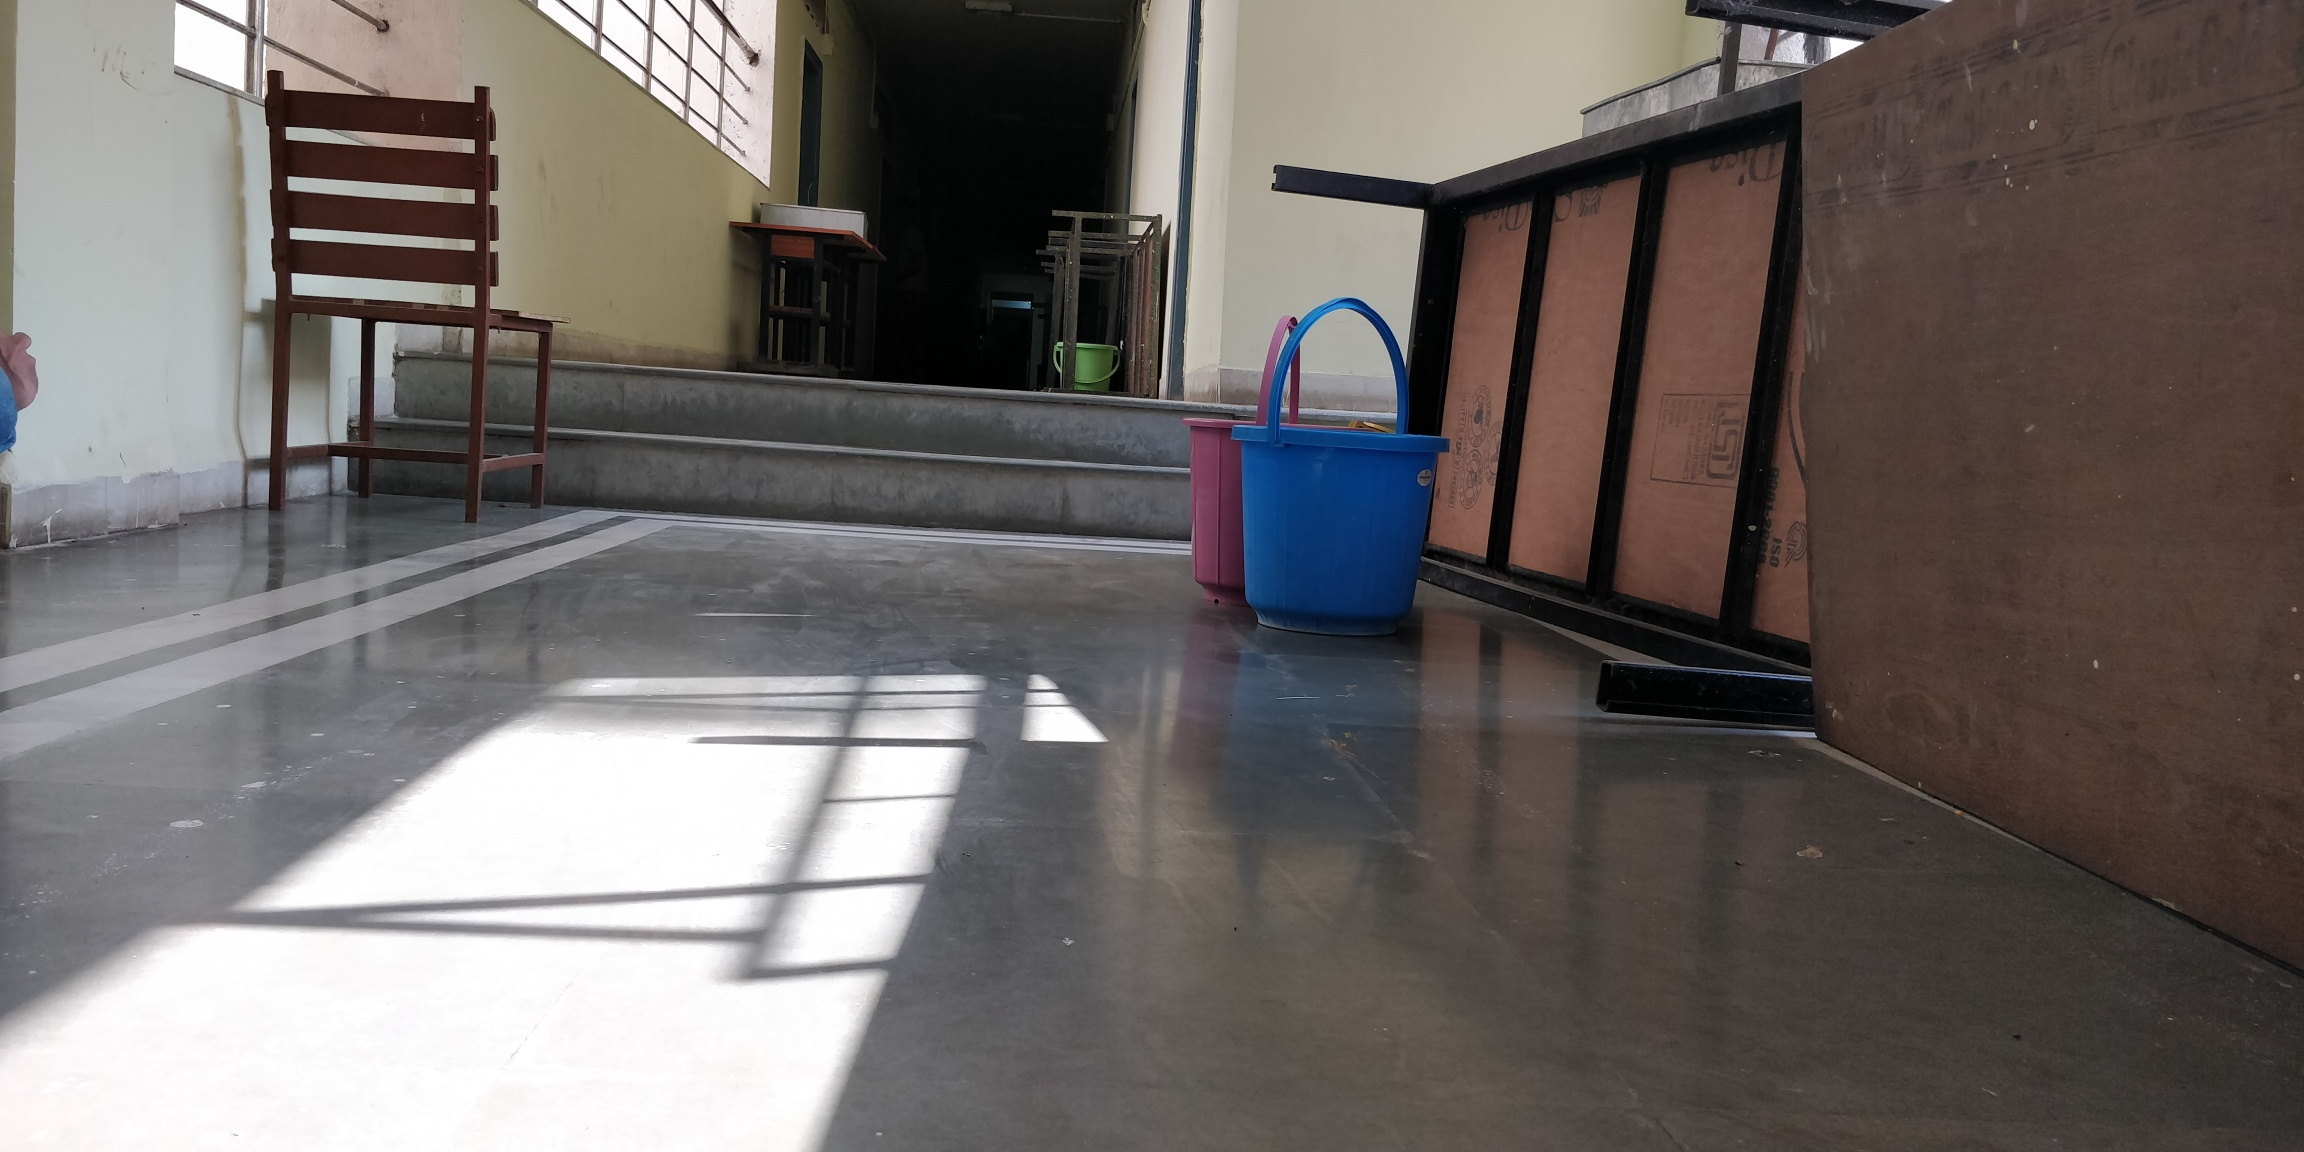stairs_up: (575, 360, 1192, 525)
